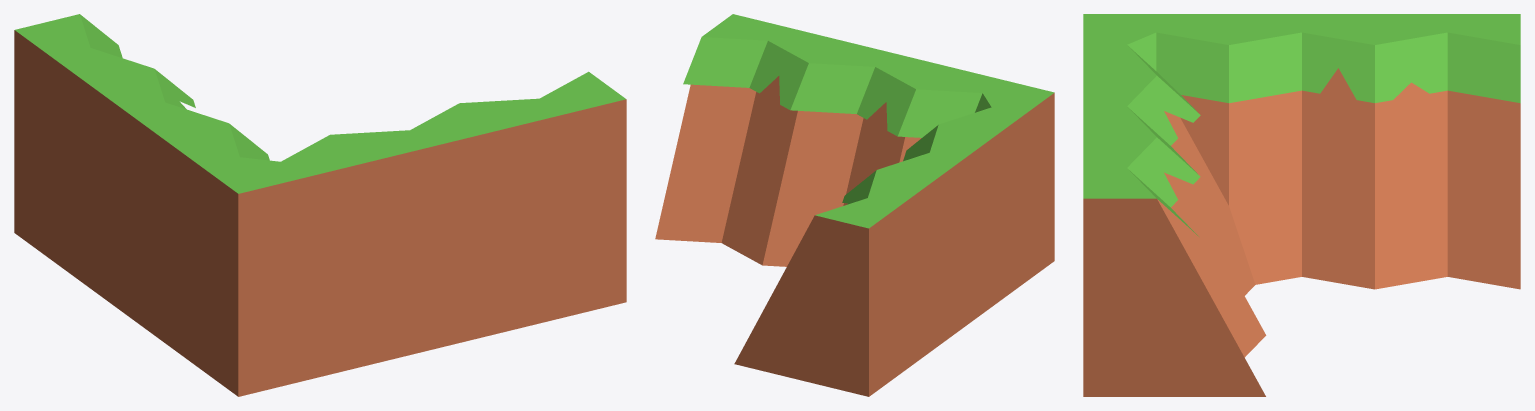
The model's file is cliff_halfCornerInner_rock.glb.
The picture shows the model from 3 angles, left to right: view 1: azimuth 30°, elevation 25°; view 2: azimuth 150°, elevation 25°; view 3: azimuth 270°, elevation 25°; orthographic projection. The views are drawn at different scales.
Parts seen in each view (by area): view 1: cliff_halfCornerInner_rock; view 2: cliff_halfCornerInner_rock; view 3: cliff_halfCornerInner_rock.
Boxes of the visible parts, x1=… form: cliff_halfCornerInner_rock: x1=14, y1=14, x2=626, y2=396; cliff_halfCornerInner_rock: x1=655, y1=14, x2=1054, y2=396; cliff_halfCornerInner_rock: x1=1083, y1=14, x2=1520, y2=396.
Bounding box in the file's own units: 1 × 0.5 × 1.
